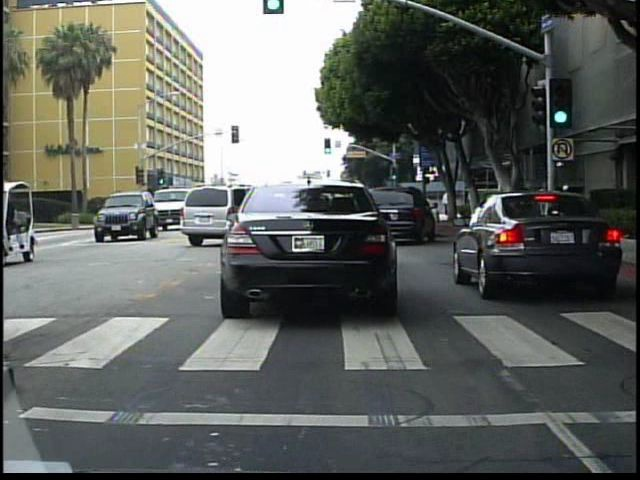person: (544, 175, 564, 233), (439, 186, 453, 218)
